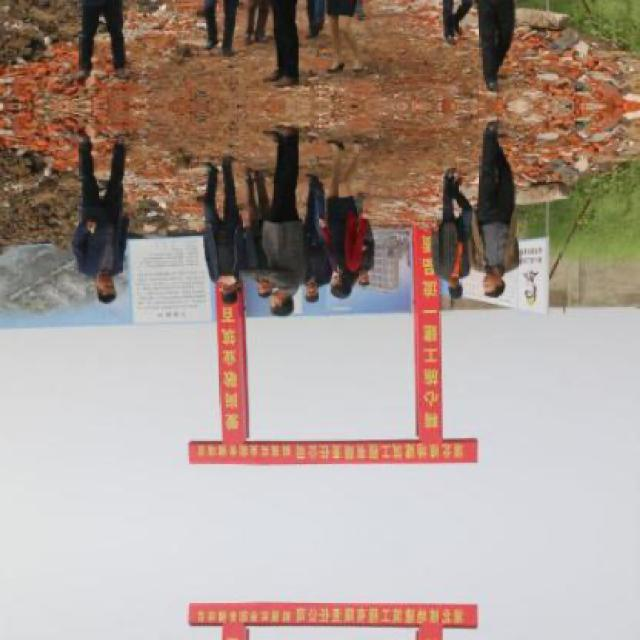sin casco: (49, 223, 139, 312), (468, 255, 539, 318), (314, 256, 380, 314), (262, 268, 310, 325), (436, 271, 493, 317)
